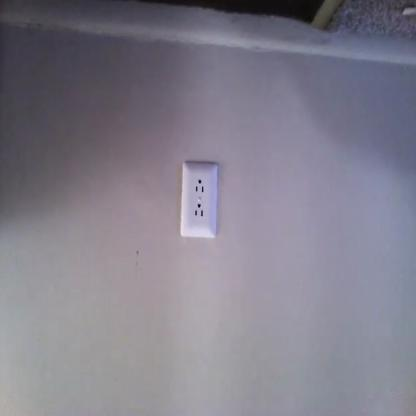OUTLET: (178, 161, 219, 239)
